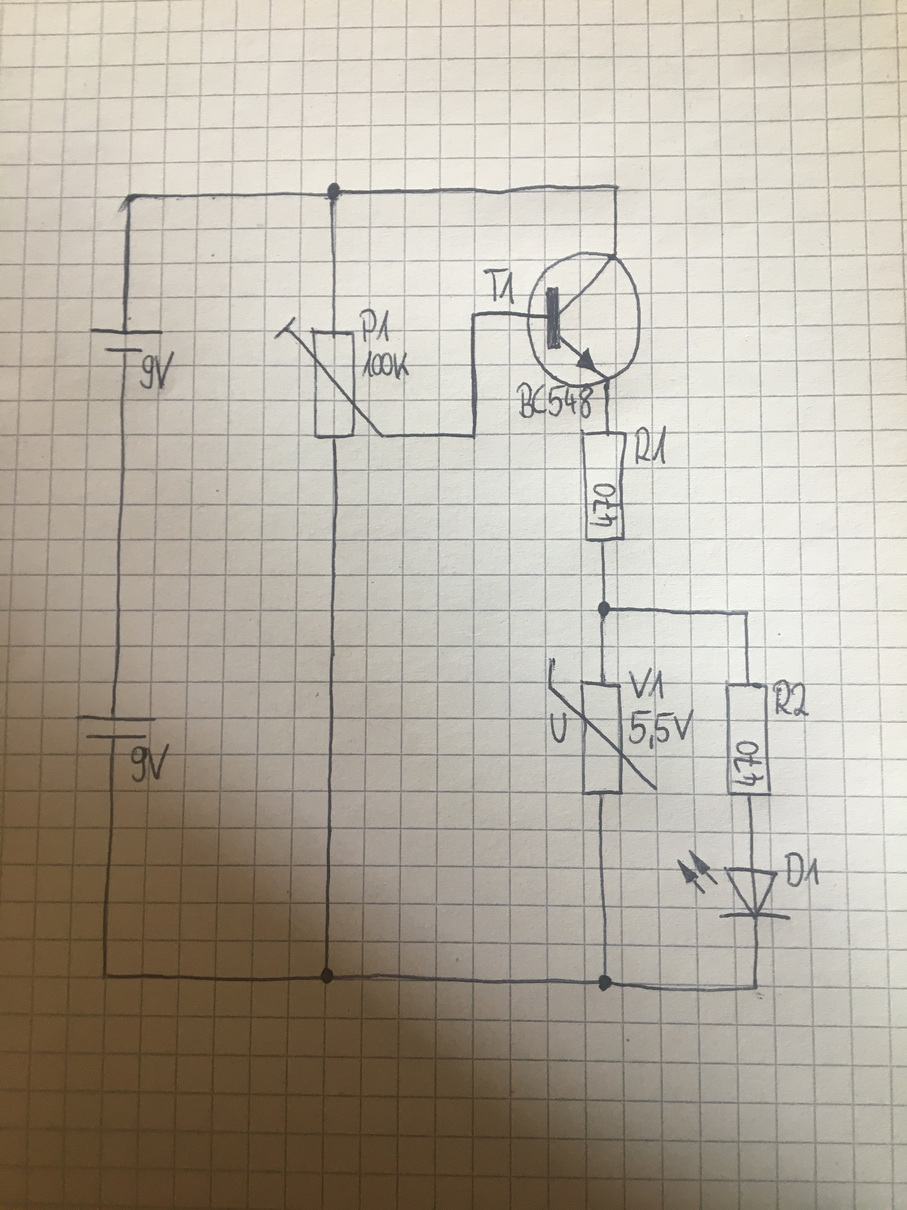diode.light_emitting: (675, 847, 794, 923)
junction: (595, 598, 617, 621), (595, 971, 616, 993), (324, 180, 344, 203), (317, 965, 337, 987), (121, 188, 141, 209), (608, 178, 625, 197), (97, 968, 114, 985), (747, 980, 765, 996), (739, 606, 757, 620), (467, 427, 481, 442), (467, 308, 481, 322)
resistor: (719, 675, 774, 802), (577, 426, 628, 546)
resistor.adjustable: (271, 314, 386, 442)
text: (515, 381, 594, 421), (625, 707, 696, 751), (729, 739, 766, 790), (129, 742, 172, 785), (358, 348, 412, 382), (782, 849, 824, 891), (631, 424, 670, 467), (771, 678, 812, 718), (588, 481, 622, 529), (138, 349, 176, 391), (482, 265, 519, 306), (627, 665, 666, 702), (358, 306, 392, 343), (547, 710, 572, 745)
transistor: (524, 248, 643, 390)
varistor: (545, 655, 659, 798)
voltage.dc: (70, 713, 162, 743), (86, 325, 167, 353)
